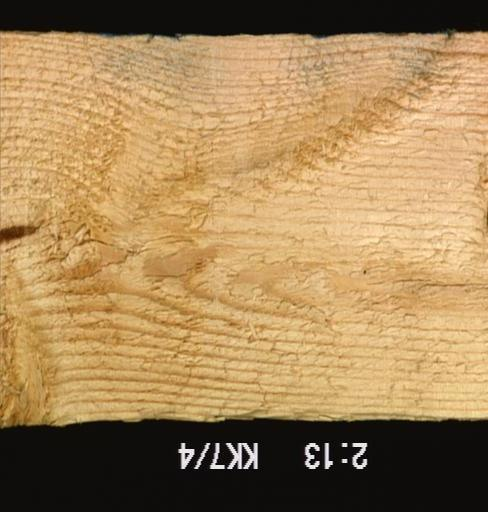split: (354, 267, 486, 290)
